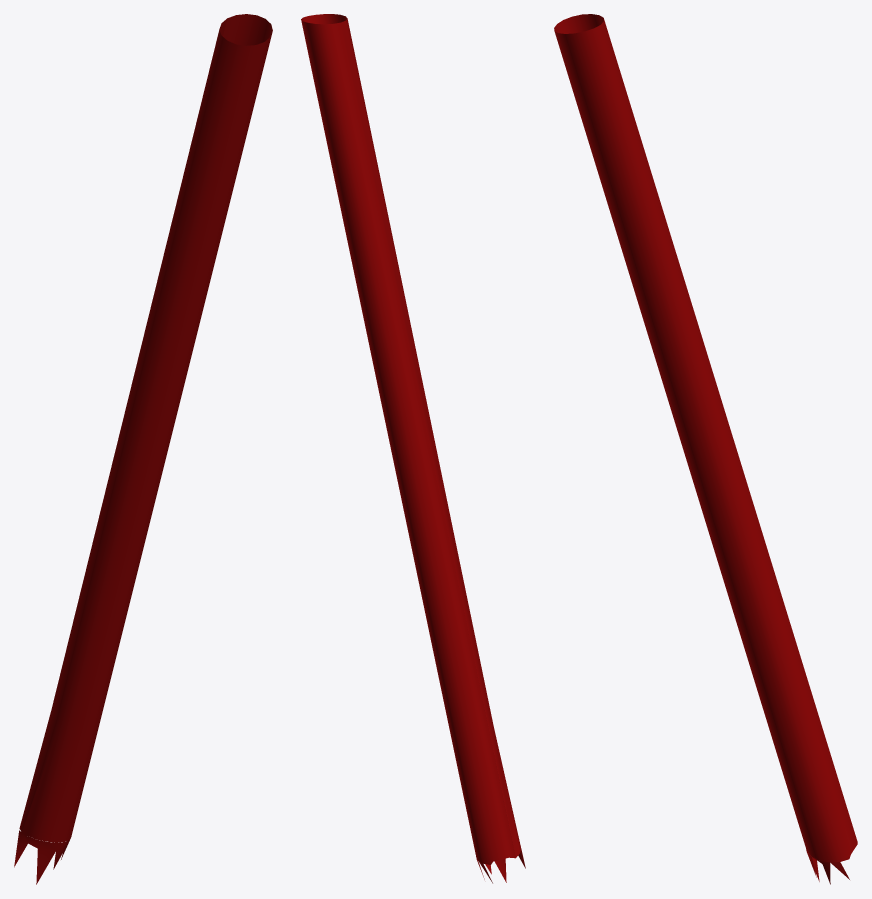
3 views of the same model, side by side, from view 1: azimuth 30°, elevation 25°; view 2: azimuth 210°, elevation 25°; view 3: azimuth 270°, elevation 25° (orthographic). The views are drawn at different scales.
Size of the model in its own units: 0.0707 by 0.5028 by 0.1532.
